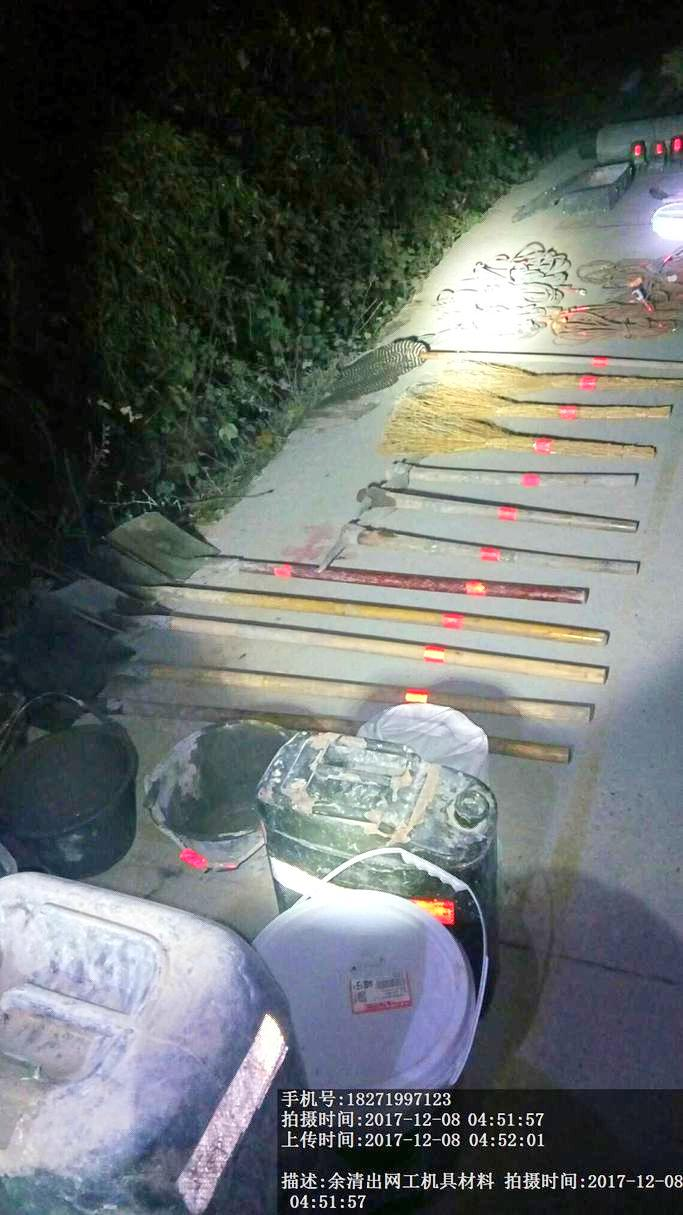SB: (391, 403, 661, 464), (426, 351, 666, 394)
SLT: (15, 872, 257, 1207)
SNT: (123, 717, 276, 862)
TQ: (109, 502, 593, 606)
